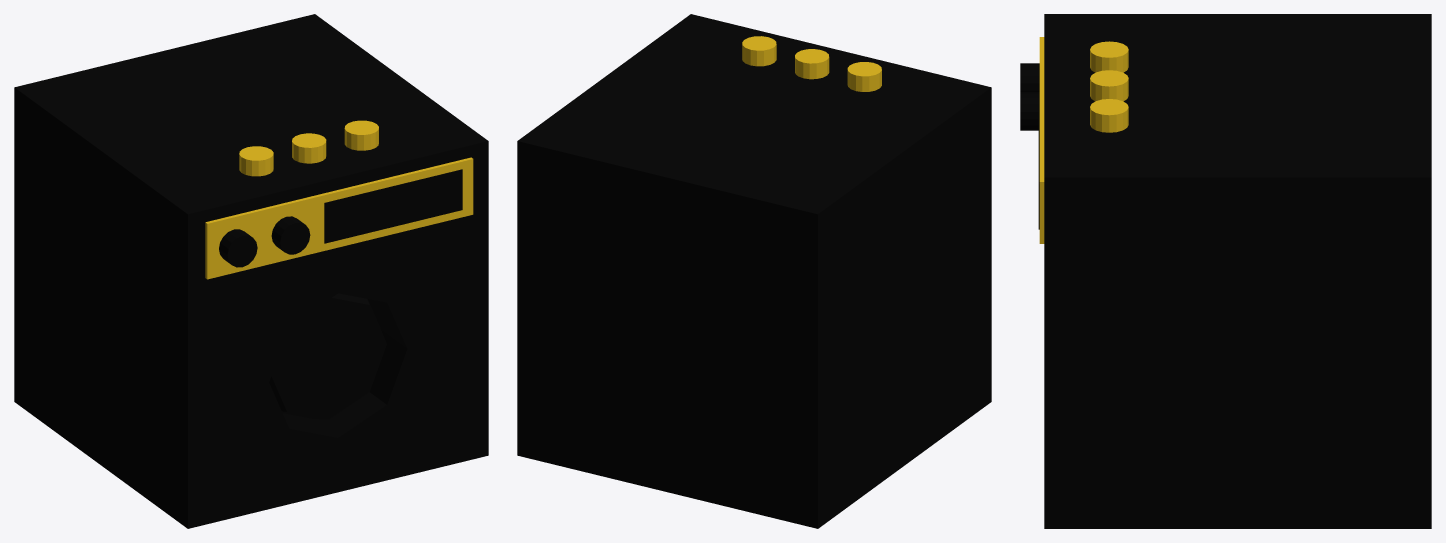
Rendered from speaker.gltf.
3 views of the same model, side by side, from view 1: azimuth 30°, elevation 25°; view 2: azimuth 150°, elevation 25°; view 3: azimuth 270°, elevation 25° (orthographic). The views are drawn at different scales.
Visible parts, largest first — view 1: speaker, Cylinder.004, Cylinder.003, Cylinder.001, Cylinder.002, Cylinder; view 2: speaker, Cylinder.002, Cylinder.001, Cylinder; view 3: speaker, Cylinder.002, Cylinder, Cylinder.001, Cylinder.004, Cylinder.003.
Part boxes in pixels (x1=…): speaker: x1=14, y1=14, x2=488, y2=528; Cylinder.004: x1=271, y1=216, x2=310, y2=254; Cylinder.003: x1=219, y1=229, x2=257, y2=267; Cylinder.001: x1=292, y1=133, x2=326, y2=163; Cylinder.002: x1=344, y1=120, x2=378, y2=150; Cylinder: x1=239, y1=146, x2=273, y2=176; speaker: x1=517, y1=14, x2=991, y2=528; Cylinder.002: x1=742, y1=36, x2=776, y2=66; Cylinder.001: x1=795, y1=49, x2=829, y2=79; Cylinder: x1=847, y1=62, x2=881, y2=91; speaker: x1=1038, y1=14, x2=1431, y2=528; Cylinder.002: x1=1090, y1=99, x2=1128, y2=132; Cylinder: x1=1090, y1=41, x2=1128, y2=72; Cylinder.001: x1=1090, y1=70, x2=1128, y2=101; Cylinder.004: x1=1020, y1=92, x2=1039, y2=130; Cylinder.003: x1=1020, y1=63, x2=1039, y2=91.
Bounding box in the file's own units: 1.1 × 1.16 × 1.17.
